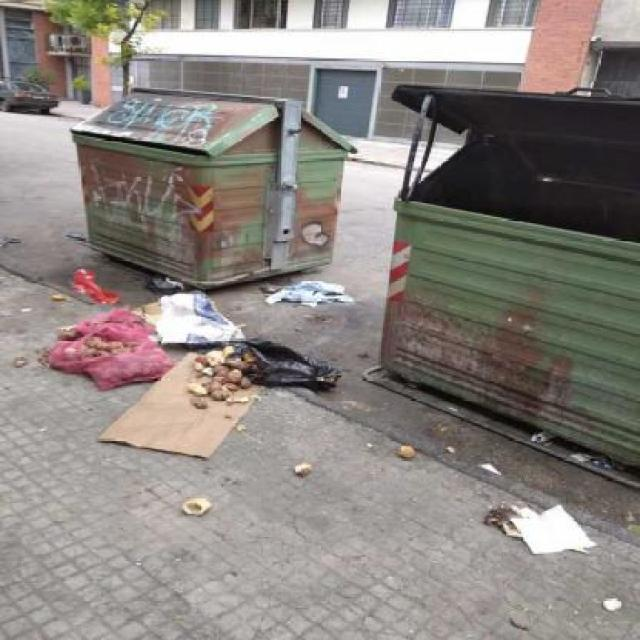garbage: (51, 271, 362, 452), (486, 500, 639, 639), (182, 493, 215, 522), (9, 353, 44, 380), (399, 442, 423, 464), (299, 459, 319, 478)
